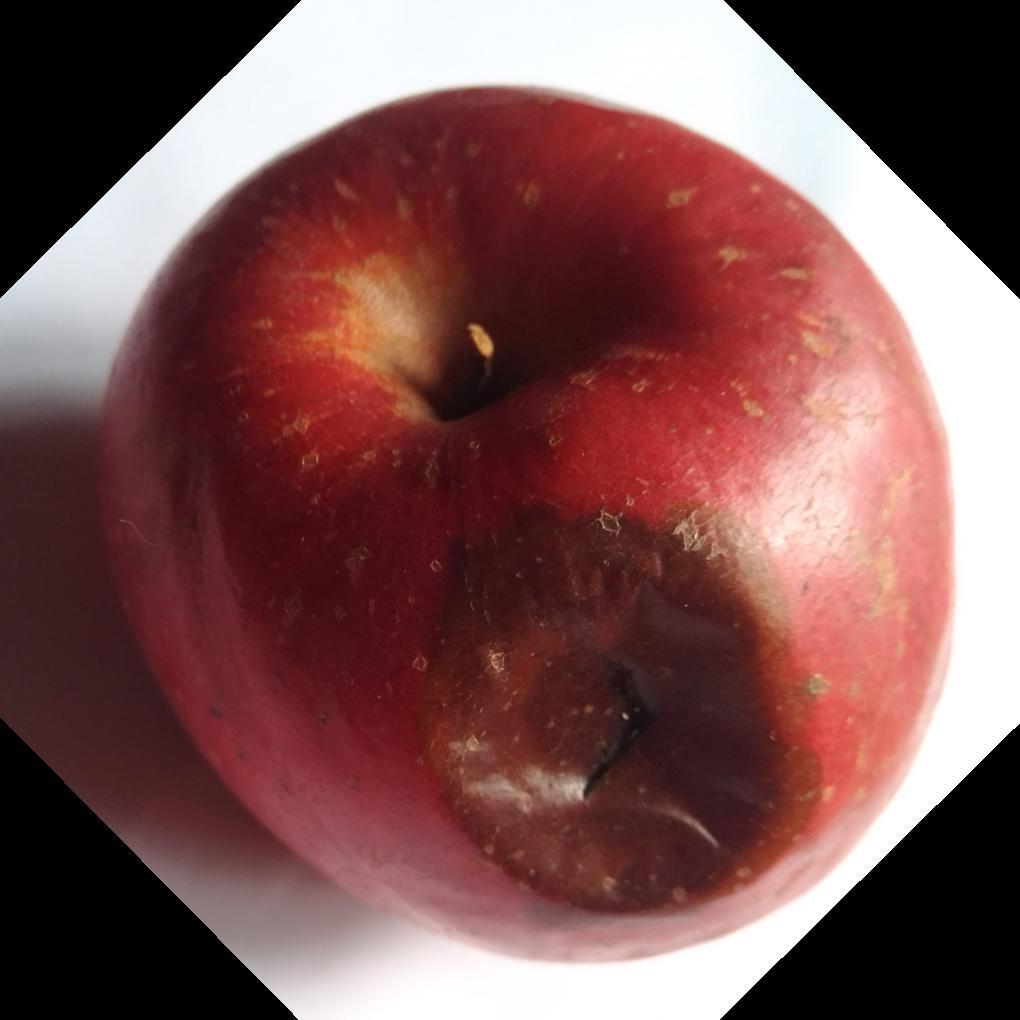FreshOrange: (92, 83, 973, 976)
